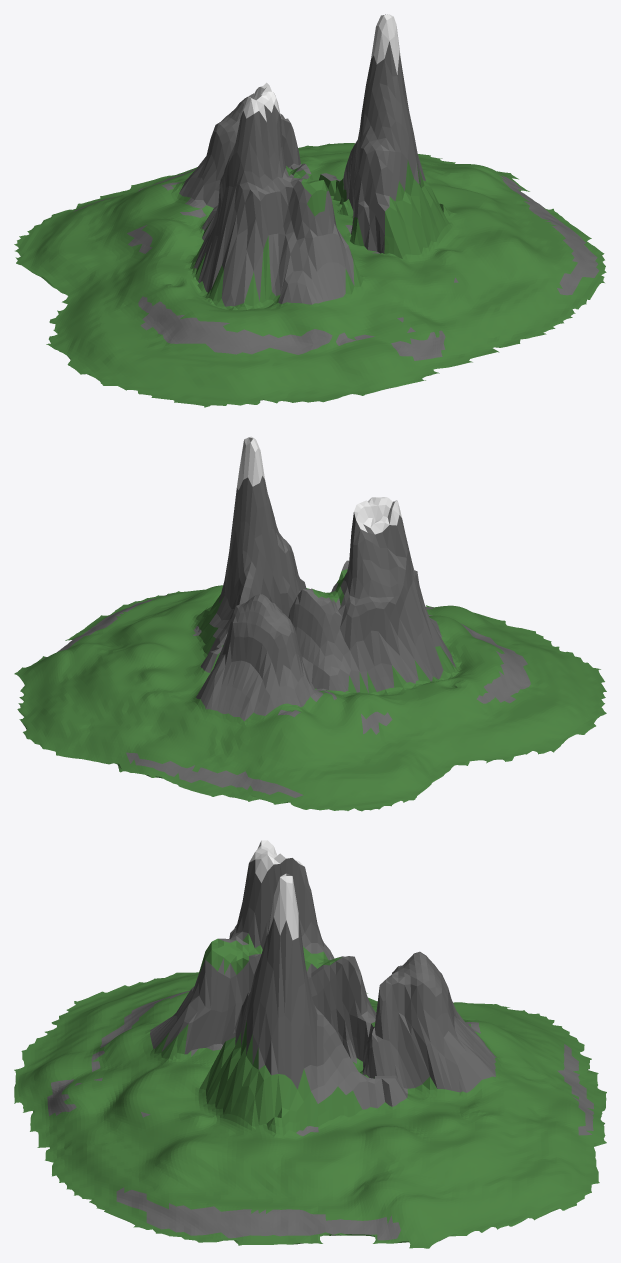
The model's file is mountain1.fbx.
3 views of the same model, one above another, from view 1: azimuth 30°, elevation 25°; view 2: azimuth 150°, elevation 25°; view 3: azimuth 270°, elevation 25° (orthographic). The views are drawn at different scales.
Visible parts, largest first — view 1: Cube; view 2: Cube; view 3: Cube.
Part boxes in pixels (x1,y1,x2,y2): Cube: (14, 14, 606, 407); Cube: (14, 436, 606, 811); Cube: (14, 840, 606, 1248).
Bounding box in the file's own units: 1089 × 498 × 976.
